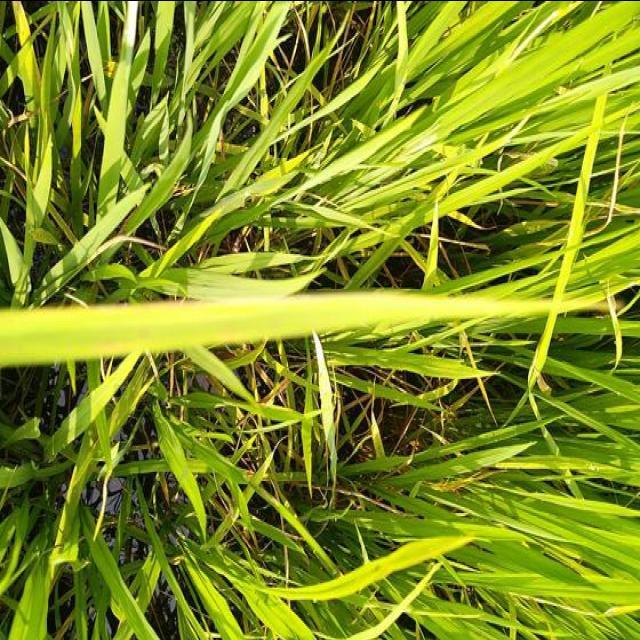Leaf Blight: (0, 274, 640, 364)
